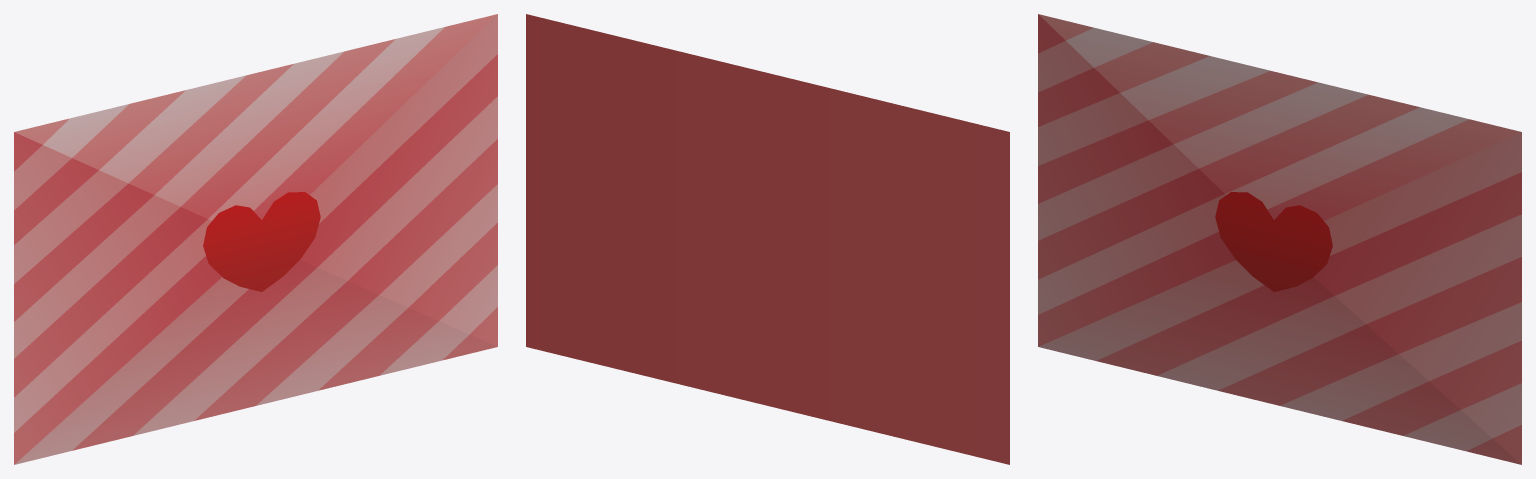
The model's file is crvalentines_letter_002.FBX.
The picture shows the model from 3 angles, left to right: view 1: azimuth 30°, elevation 25°; view 2: azimuth 150°, elevation 25°; view 3: azimuth 330°, elevation 25°; orthographic projection.
Parts seen in each view (by area): view 1: crvalentines_letter_002; view 2: crvalentines_letter_002; view 3: crvalentines_letter_002.
Part boxes in pixels (box(x1,y1,x2,y2)): crvalentines_letter_002: box(14, 14, 497, 464); crvalentines_letter_002: box(526, 14, 1009, 464); crvalentines_letter_002: box(1038, 14, 1521, 464).
Bounding box in the file's own units: 24.36 × 16.02 × 0.518.
1 material, 1 textured.
